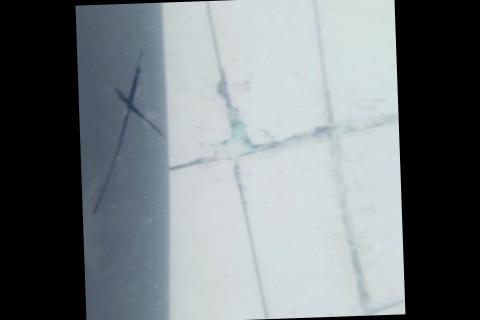keretakan: (84, 53, 166, 218)
